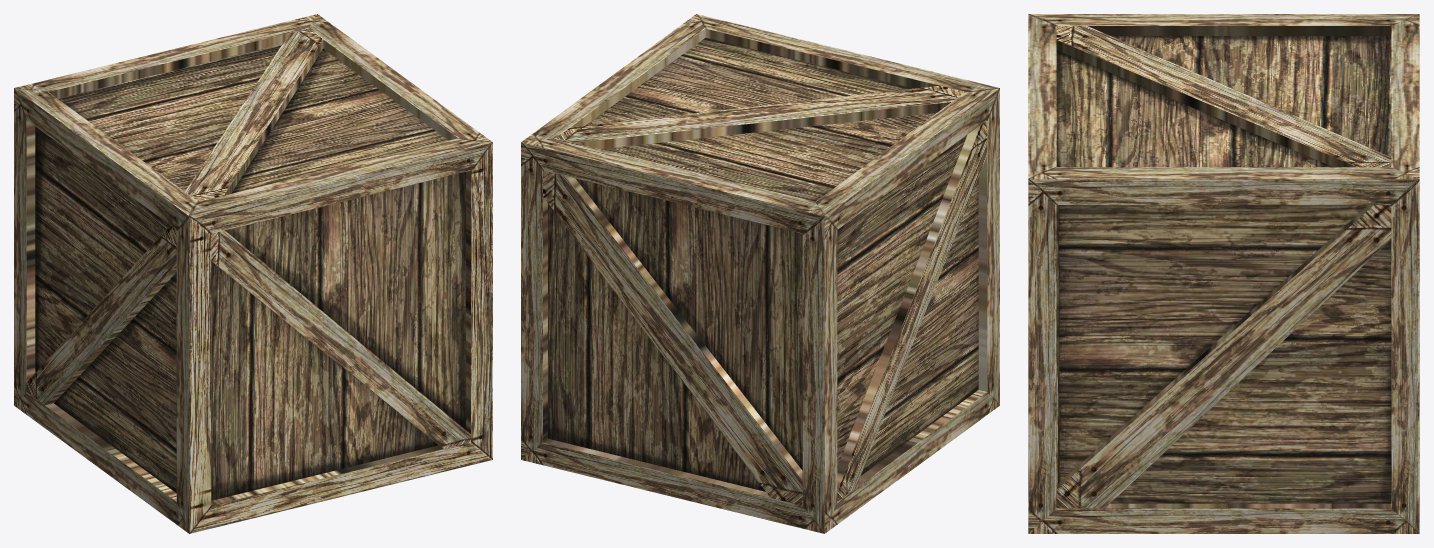
File: Crate.fbx
The picture shows the model from 3 angles, left to right: view 1: azimuth 30°, elevation 25°; view 2: azimuth 150°, elevation 25°; view 3: azimuth 270°, elevation 25°; orthographic projection. The views are drawn at different scales.
Visible parts, largest first — view 1: Crate; view 2: Crate; view 3: Crate.
Boxes of the visible parts, <box> form: Crate: <box>14,14,492,533</box>; Crate: <box>521,14,999,533</box>; Crate: <box>1028,14,1419,533</box>.
Bounding box in the file's own units: 208 × 208 × 208.
1 material, 1 textured.
